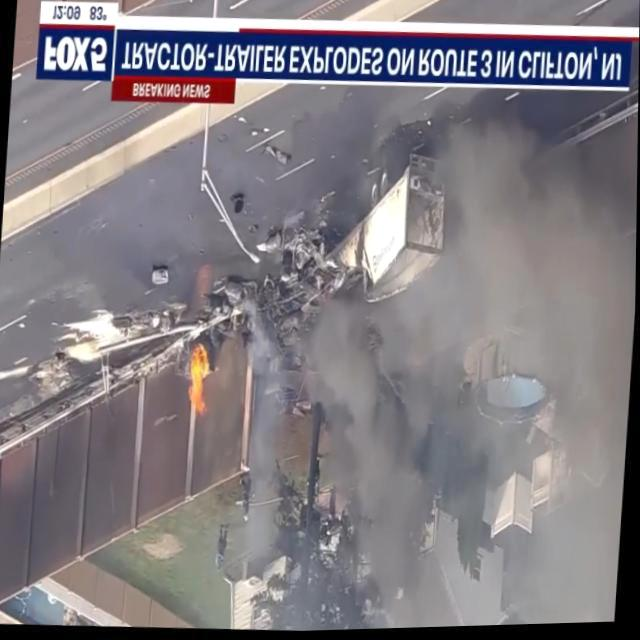fire: (181, 342, 215, 422)
